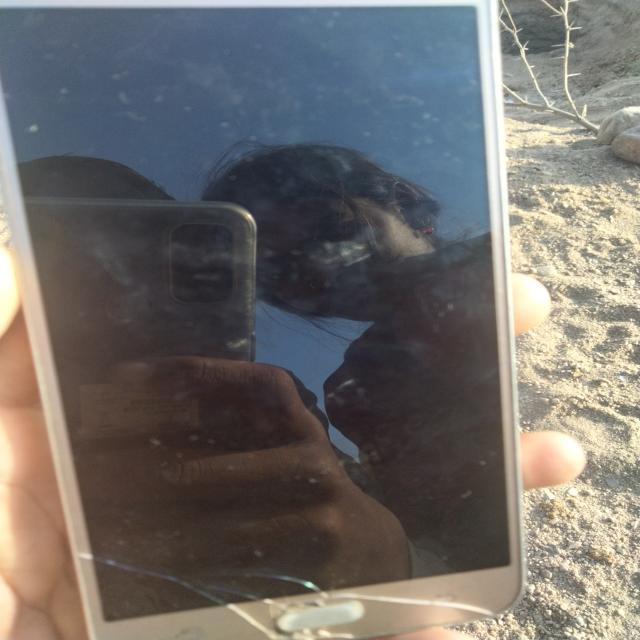screen crack: (75, 534, 522, 640)
